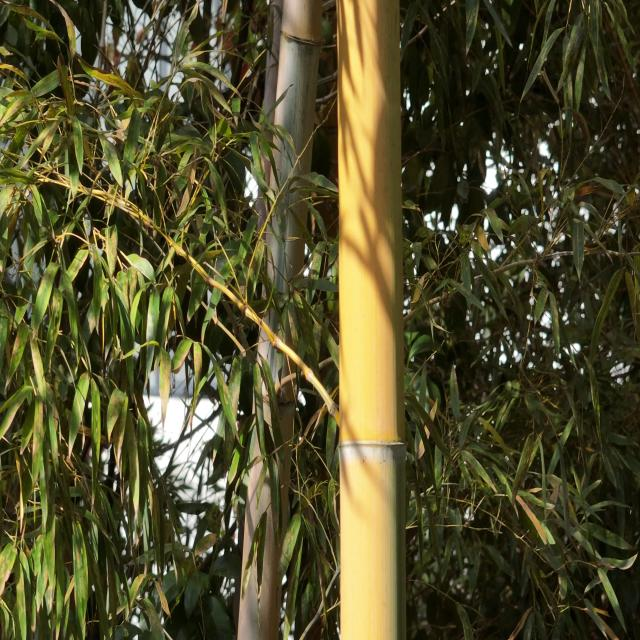Bamboo-shoots: (337, 0, 407, 640)
